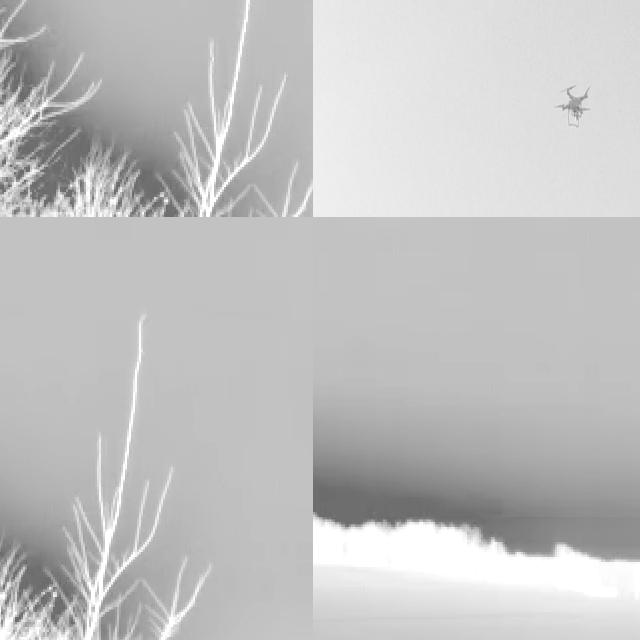drone: (558, 82, 593, 127)
